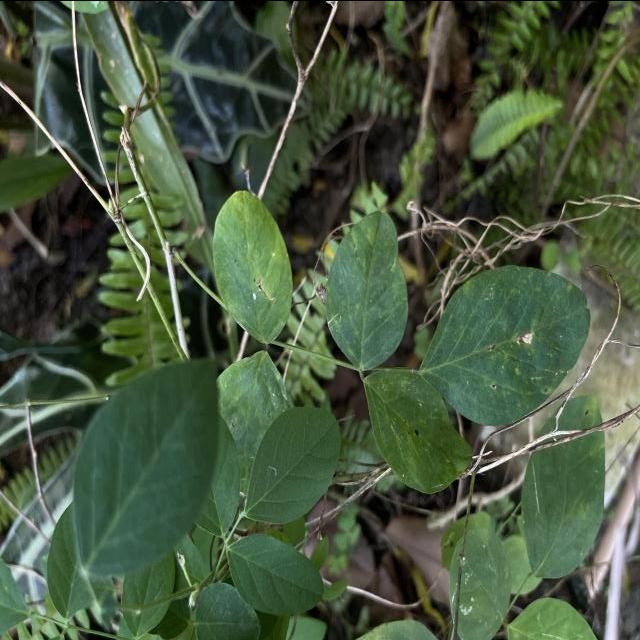Clitoria ternatea: (418, 262, 592, 427), (362, 366, 474, 494), (325, 209, 409, 371), (212, 188, 294, 345), (244, 404, 342, 524)
